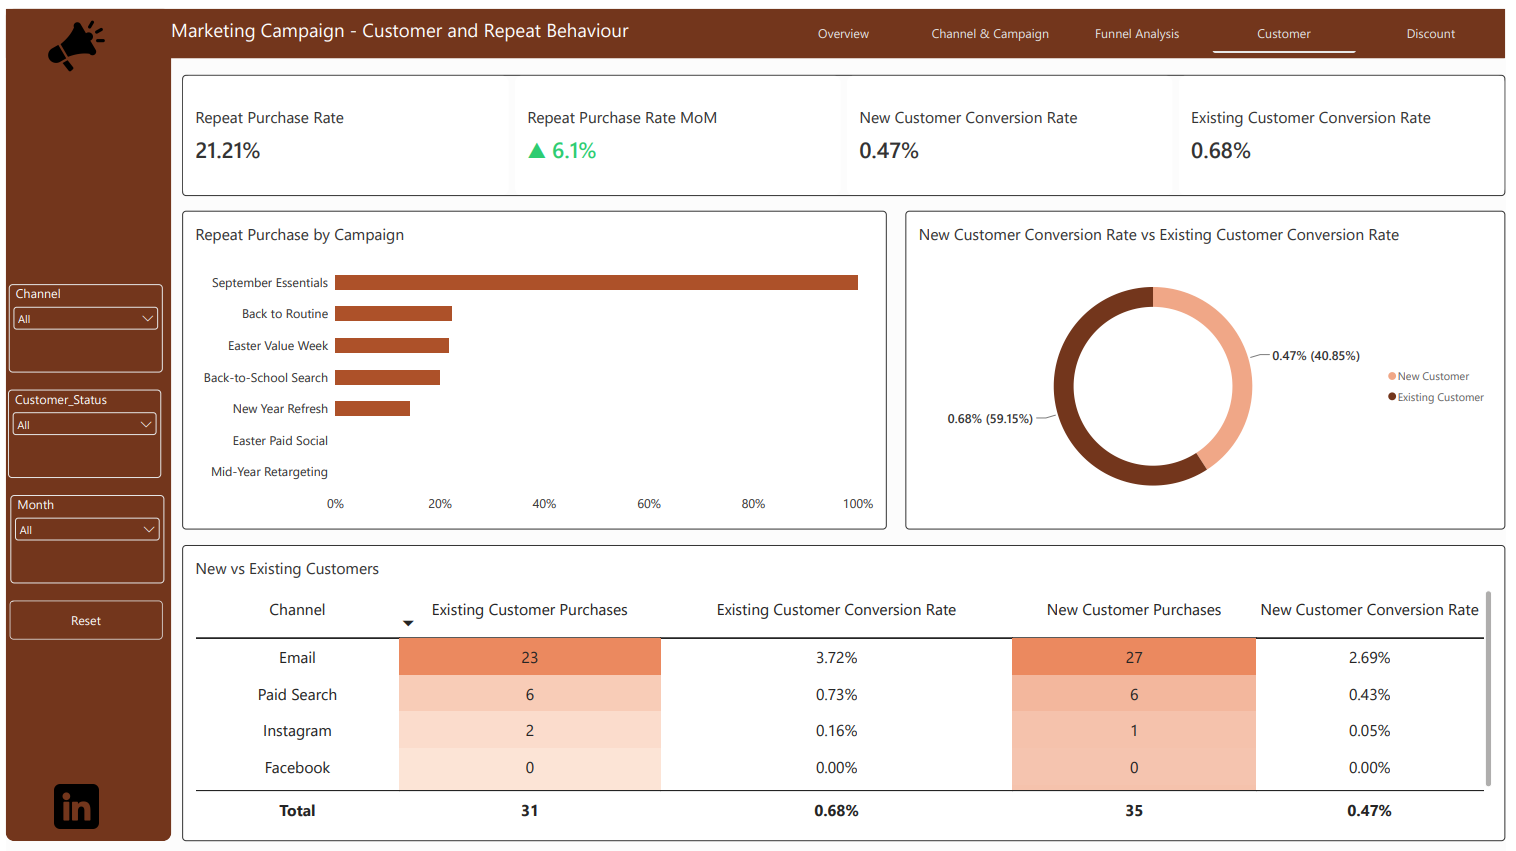

What the dashboard file says about the page in this screenshot:
{"tool":"powerbi","page":{"name":"Customer","canvas":[1920,1080],"ordinal":3},"visuals":[{"type":"shape","box":[0,0,212.3,1066.8],"z":0},{"type":"shape","box":[0,0,1919.6,65.1],"z":1000},{"type":"textbox","box":[212.3,12,611.3,39.4],"z":2000},{"type":"cardVisual","fields":{"Data":["Measures Page 1.Repeat Purchase Rate","Measures Page 1.Repeat Purchase Rate MoM % Change","Measures Page 1.New Customer Conversion Rate","Measures Page 1.Existing Customer Conversion Rate"]},"box":[226,85.6,1693.5,155.8],"z":3000},{"type":"barChart","title":"Repeat Purchase by Campaign","fields":{"Category":["Campaigns.Campaign_Name"],"Y":["Measures Page 1.Repeat Purchase Rate"]},"box":[226,260.3,902.4,407.5],"z":4000},{"type":"tableEx","title":"New vs Existing Customers","fields":{"Values":["Campaigns.Channel","Measures Page 1.Existing Customer Purchases","Measures Page 1.Existing Customer Conversion Rate","Measures Page 1.New Customer Purchases","Measures Page 1.New Customer Conversion Rate"]},"box":[226,688.4,1693.5,378.4],"z":5000},{"type":"donutChart","title":"New Customer Conversion Rate vs Existing Customer Conversion Rate","fields":{"Y":["Measures Page 1.New Customer Conversion Rate","Measures Page 1.Existing Customer Conversion Rate"]},"box":[1152.4,260.3,767.1,407.5],"z":6000},{"type":"slicer","fields":{"Values":["Campaigns.Channel"]},"box":[4.3,353.6,196.9,113],"z":7000},{"type":"slicer","fields":{"Values":["Interactions.Customer_Status"]},"box":[2.6,488.7,196.9,113],"z":8000},{"type":"image","box":[61.6,994.9,58.2,56.5],"z":9000},{"type":"image","box":[34.2,12,113,73.6],"z":10000},{"type":"slicer","fields":{"Values":["Calendar Date.Month Name"]},"box":[5.7,623.8,196.9,113],"z":11000},{"type":"pageNavigator","box":[981.2,8.6,938.4,49.7],"z":12000},{"type":"actionButton","box":[5.4,758.9,195.2,49.7],"z":12001}]}

Visuals, with their boxes in screenshot pixels (x1, y1, x2, y2), scaled from the page's 1920x1080 canvas onto the 1516x851 screenshot:
shape: [x1=0, y1=0, x2=168, y2=841]
shape: [x1=0, y1=0, x2=1515, y2=51]
textbox: [x1=168, y1=9, x2=650, y2=41]
cardVisual - Measures Page 1.Repeat Purchase Rate x Measures Page 1.Repeat Purchase Rate MoM % Change: [x1=178, y1=67, x2=1515, y2=190]
"Repeat Purchase by Campaign" barChart: [x1=178, y1=205, x2=891, y2=526]
"New vs Existing Customers" tableEx: [x1=178, y1=542, x2=1515, y2=841]
"New Customer Conversion Rate vs Existing Customer Conversion Rate" donutChart: [x1=910, y1=205, x2=1515, y2=526]
slicer - Campaigns.Channel: [x1=3, y1=279, x2=159, y2=368]
slicer - Interactions.Customer_Status: [x1=2, y1=385, x2=158, y2=474]
image: [x1=49, y1=784, x2=95, y2=828]
image: [x1=27, y1=9, x2=116, y2=67]
slicer - Calendar Date.Month Name: [x1=5, y1=492, x2=160, y2=581]
pageNavigator: [x1=775, y1=7, x2=1515, y2=46]
actionButton: [x1=4, y1=598, x2=158, y2=637]
